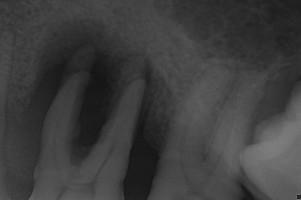Dental Caries: (33, 15, 165, 162)
